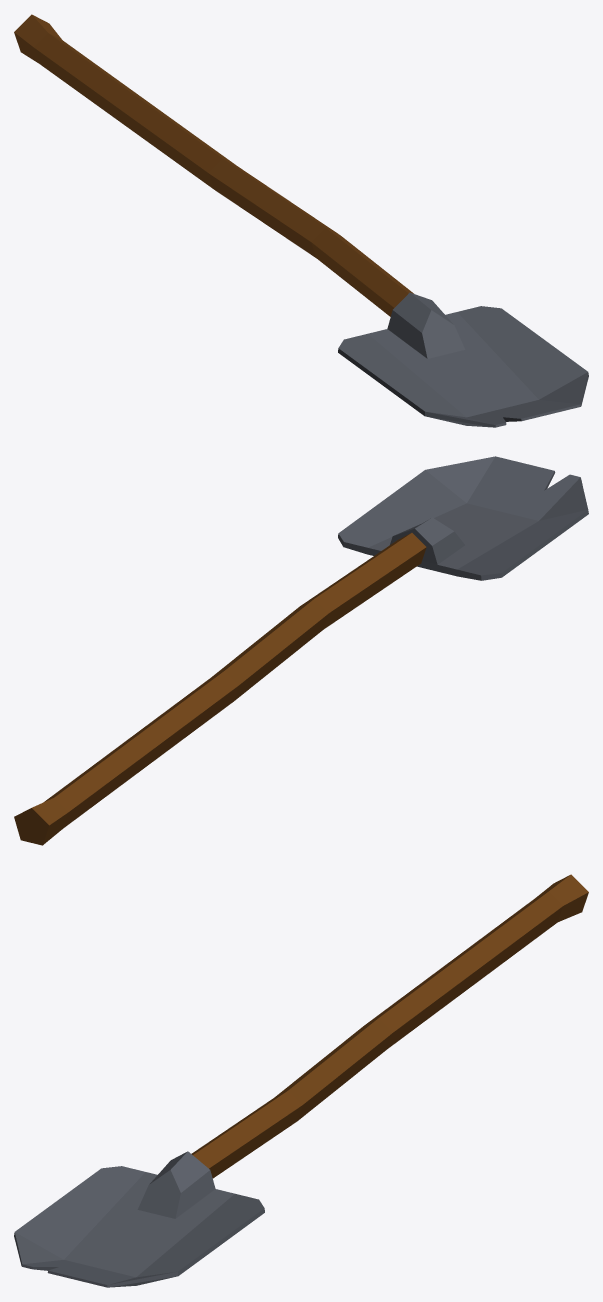
The model's file is Shovel.fbx.
The picture shows the model from 3 angles, top to bottom: view 1: azimuth 30°, elevation 25°; view 2: azimuth 150°, elevation 25°; view 3: azimuth 330°, elevation 25°; orthographic projection.
Parts seen in each view (by area): view 1: Shovel; view 2: Shovel; view 3: Shovel.
Part boxes in pixels (left/top/right/bottom): Shovel: left=14, top=14, right=588, bottom=427; Shovel: left=14, top=456, right=588, bottom=845; Shovel: left=14, top=874, right=588, bottom=1287.
Size of the model in its own units: 24.19 by 8.23 by 129.
